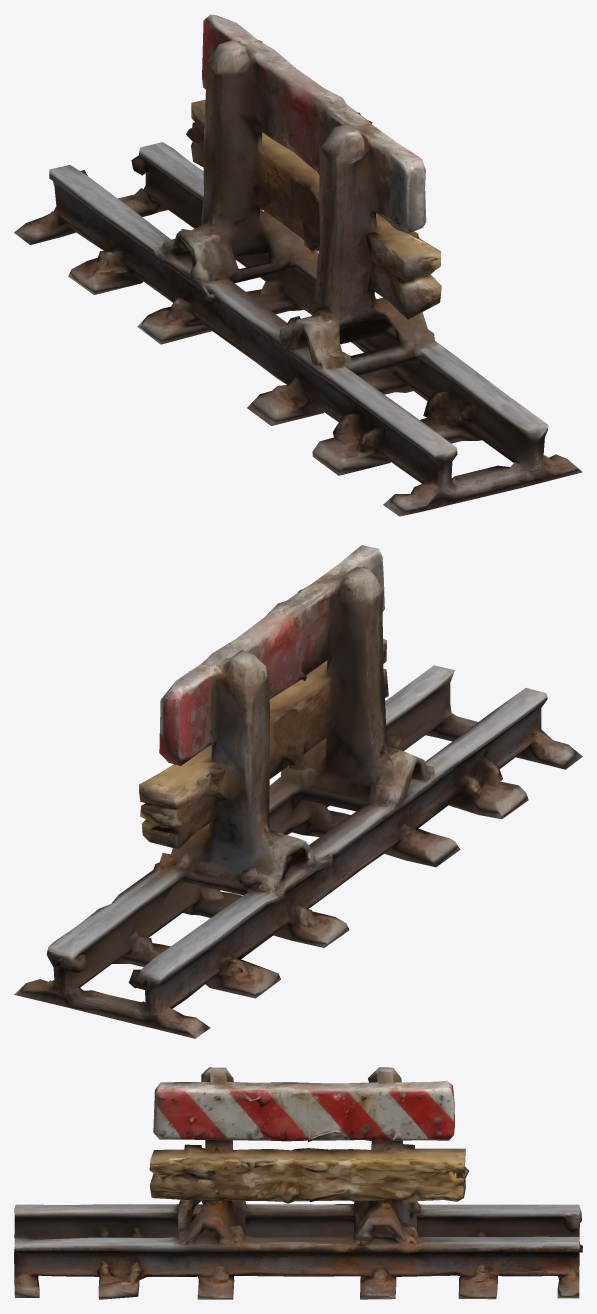
The model's file is rd_buffer.glb.
3 views of the same model, one above another, from view 1: azimuth 30°, elevation 25°; view 2: azimuth 150°, elevation 25°; view 3: azimuth 270°, elevation 25° (orthographic). The views are drawn at different scales.
Visible parts, largest first — view 1: tripo_node_d0af115b-ecb1-473f-8b76-bd0b67b84eda; view 2: tripo_node_d0af115b-ecb1-473f-8b76-bd0b67b84eda; view 3: tripo_node_d0af115b-ecb1-473f-8b76-bd0b67b84eda.
Boxes of the visible parts, x1,y1,x2,y2 form: tripo_node_d0af115b-ecb1-473f-8b76-bd0b67b84eda: (14,14,582,516); tripo_node_d0af115b-ecb1-473f-8b76-bd0b67b84eda: (14,545,582,1038); tripo_node_d0af115b-ecb1-473f-8b76-bd0b67b84eda: (14,1067,582,1299).
Size of the model in its own units: 0.2841 by 0.3784 by 1.
1 material, 1 textured.
